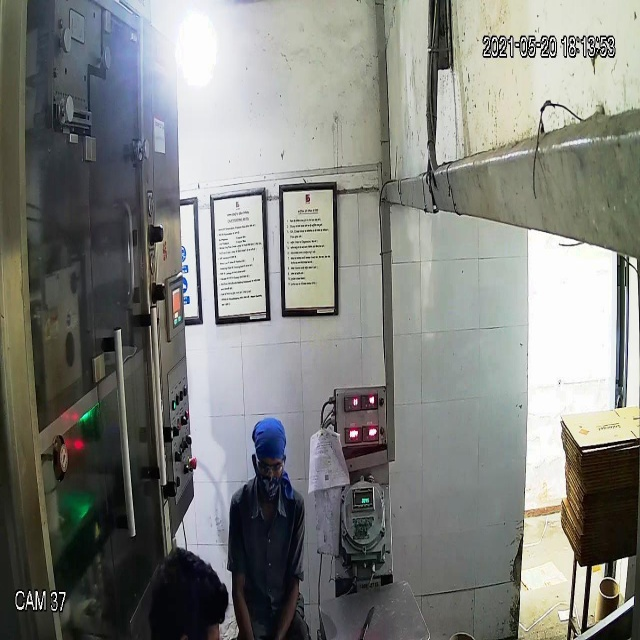Gafas: (248, 446, 289, 484)
